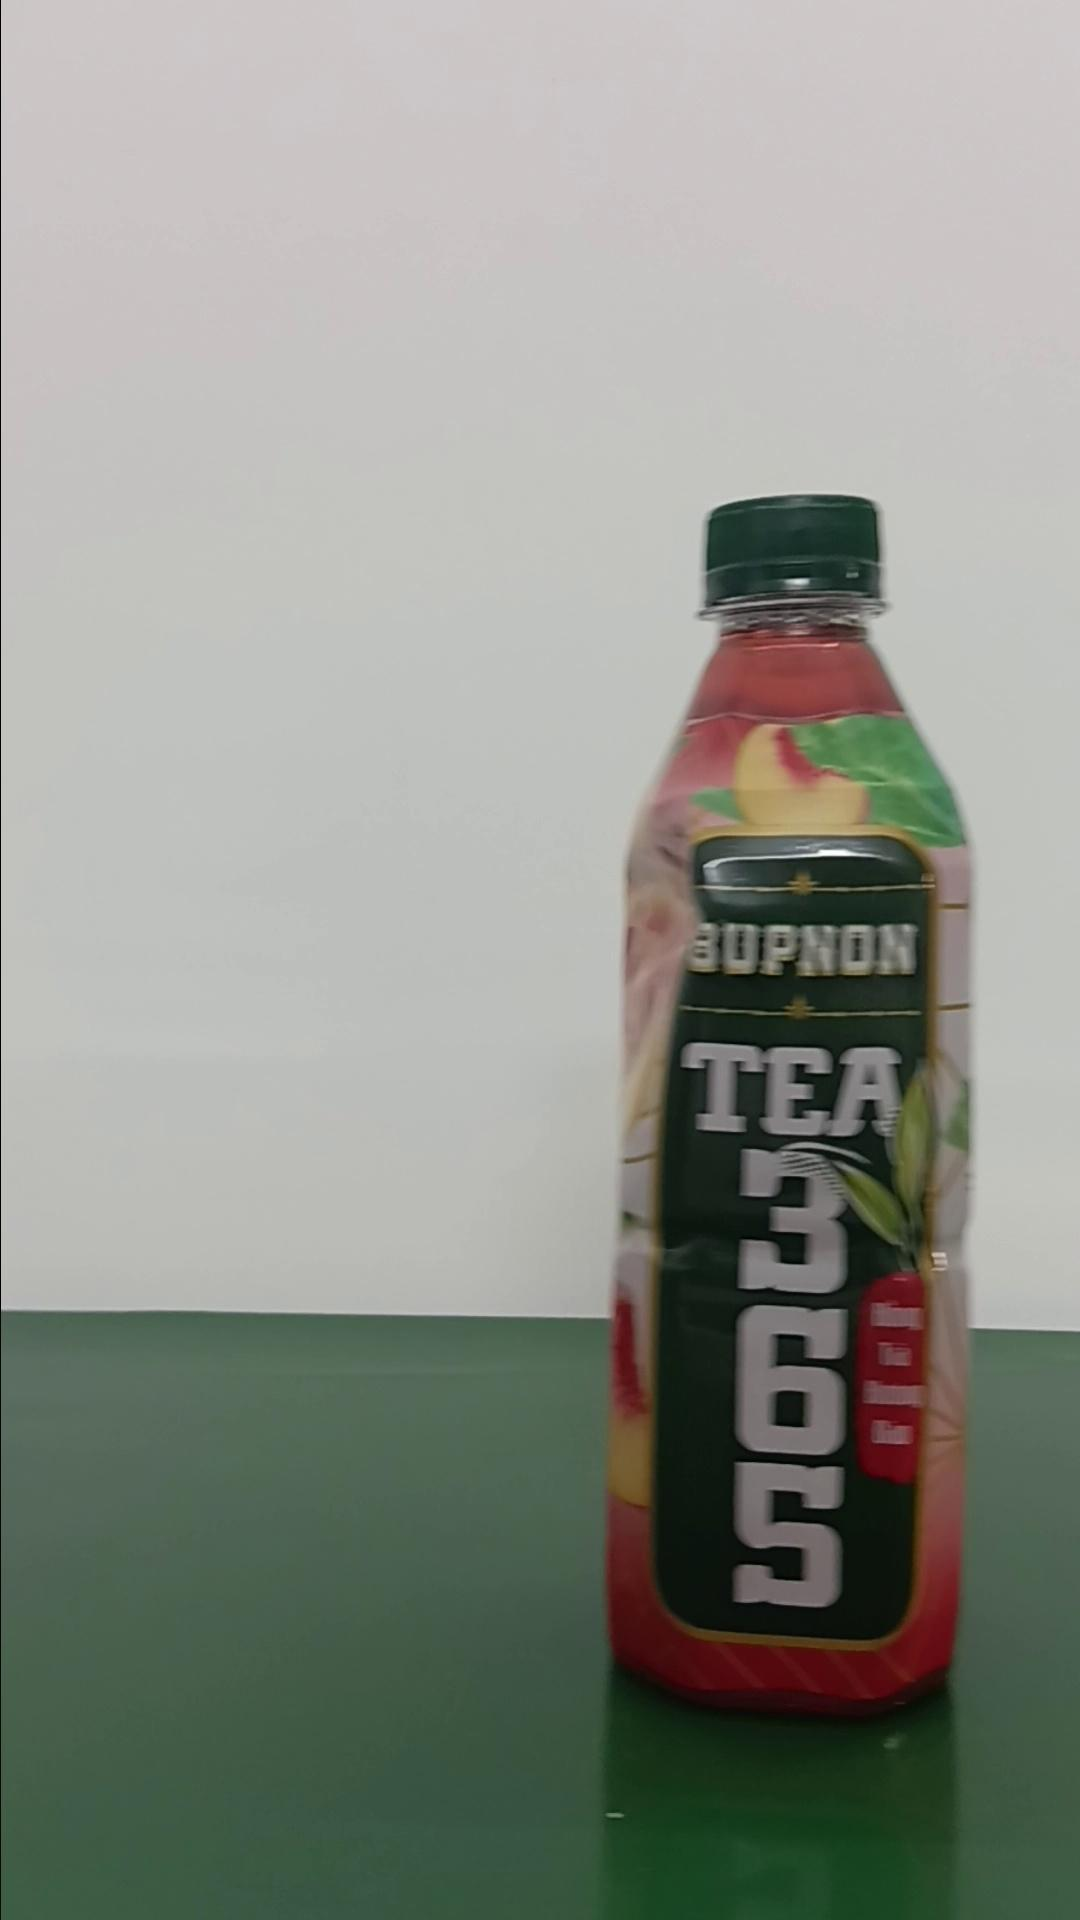loi meo sp: (601, 491, 977, 1717)
